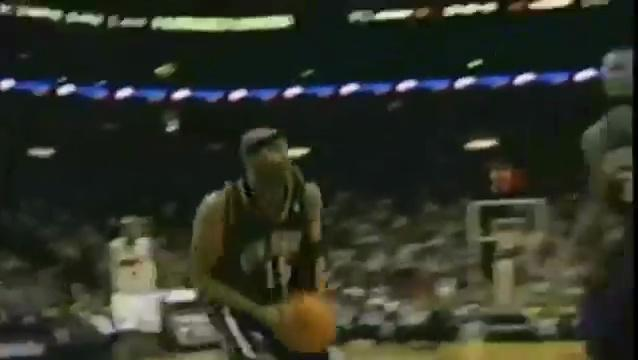Backboard: (466, 200, 549, 241)
Ball: (284, 291, 334, 352)
Basket: (497, 230, 521, 249)
Person: (189, 124, 329, 360), (579, 44, 638, 360), (101, 214, 172, 360)
